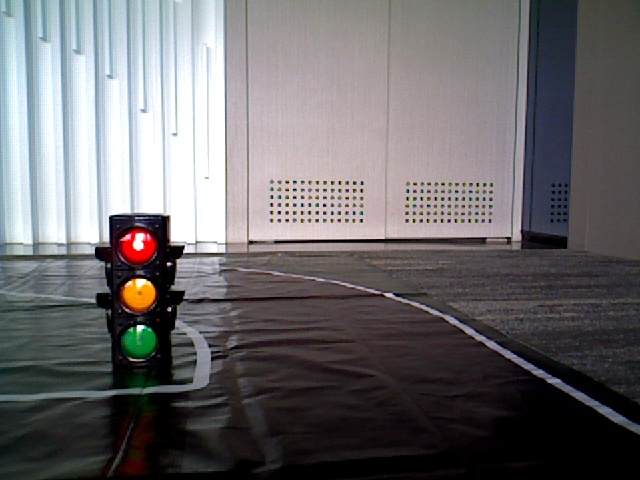red: (111, 219, 167, 370)
